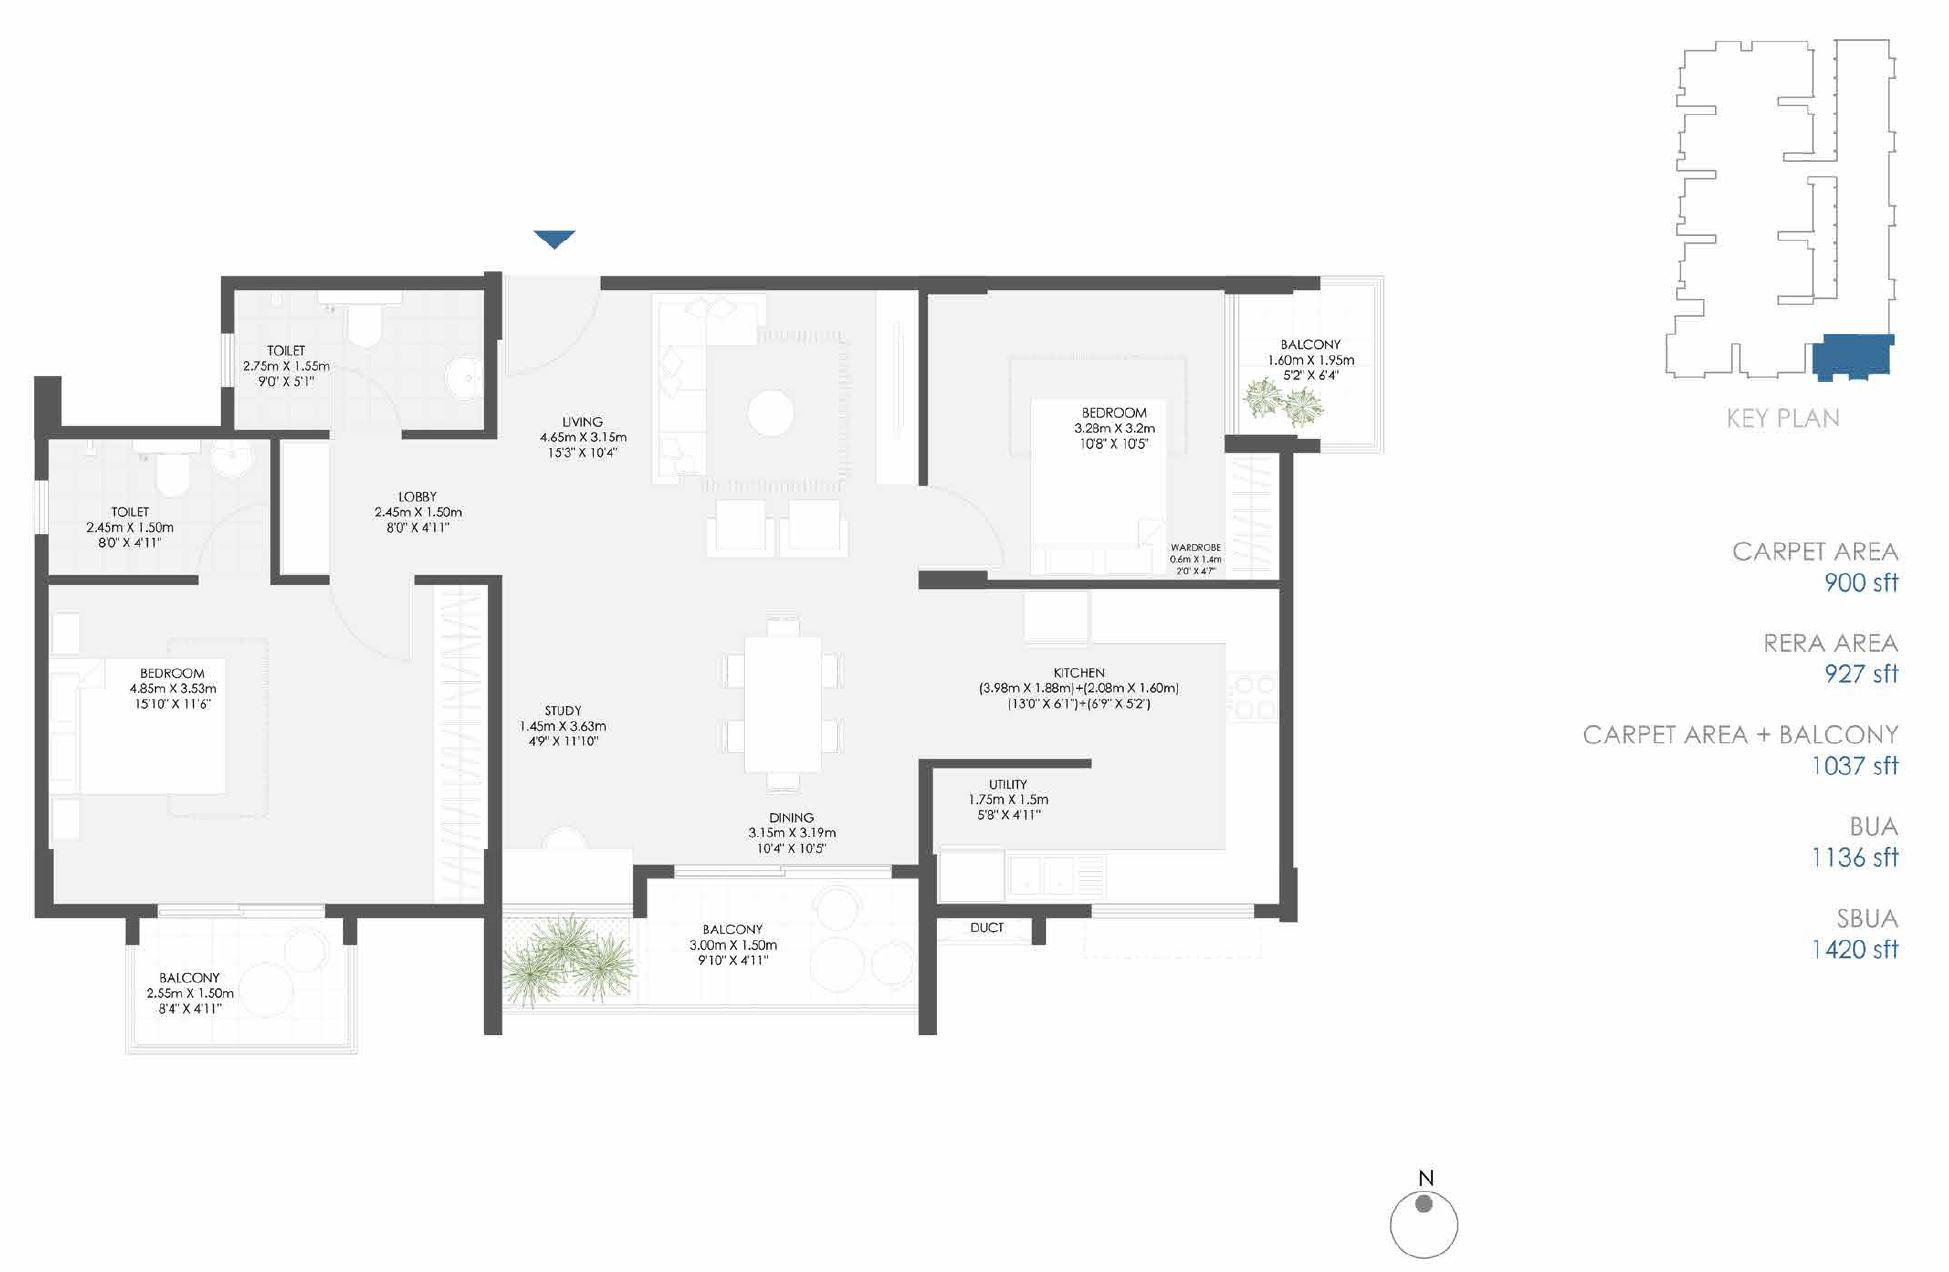Balcony: (642, 877, 915, 1003), (136, 918, 342, 1043)
Bed: (1028, 398, 1168, 580), (45, 652, 222, 794)
Bedroom: (48, 583, 480, 902), (930, 281, 1232, 574)
Dining Room: (636, 583, 922, 866)
Dining table: (712, 618, 857, 802)
Kitchen: (933, 593, 1278, 765)
Living Room: (506, 286, 918, 578)
Sofa: (652, 298, 712, 472), (653, 294, 771, 352), (706, 500, 770, 560), (784, 497, 848, 556)
Wardrobe: (435, 583, 486, 904), (1227, 456, 1281, 571)
balcoa: (1232, 289, 1372, 439)
door: (496, 286, 608, 384), (921, 475, 1016, 578), (672, 851, 894, 895), (334, 566, 416, 662), (315, 370, 408, 446), (190, 497, 270, 570), (1217, 281, 1249, 458)
fridge: (1024, 591, 1088, 648)
kitchen-slab: (1220, 594, 1278, 902), (1010, 846, 1280, 904), (1088, 593, 1274, 642)
lobby: (283, 433, 506, 574)
sink: (1011, 850, 1109, 905), (446, 352, 484, 402), (210, 441, 256, 478)
stove: (1220, 662, 1280, 728)
study: (504, 574, 642, 910)
toilet: (227, 290, 483, 428), (45, 436, 273, 574)
utility: (938, 767, 1114, 902)
washing-machine: (940, 846, 1007, 904)
